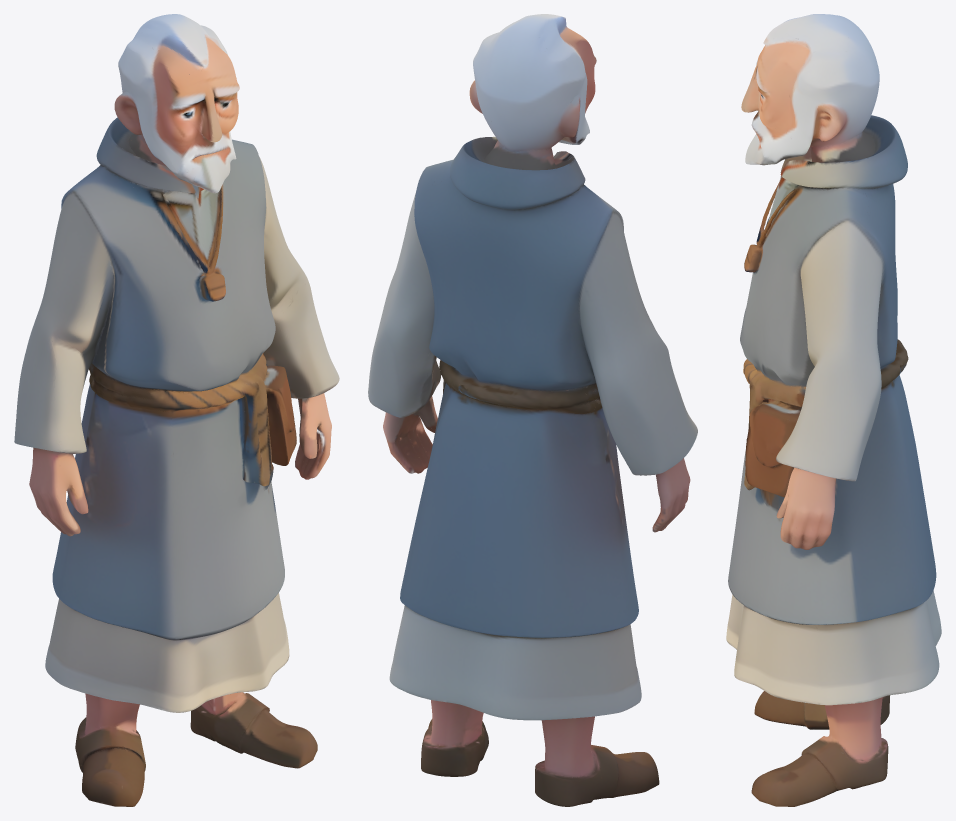
The model's file is base_basic_shaded.fbx.
3 views of the same model, side by side, from view 1: azimuth 30°, elevation 25°; view 2: azimuth 150°, elevation 25°; view 3: azimuth 270°, elevation 25° (orthographic). The views are drawn at different scales.
Parts seen in each view (by area): view 1: model; view 2: model; view 3: model.
Boxes of the visible parts, bbox=[...] form: model: bbox=[14, 14, 339, 806]; model: bbox=[368, 14, 697, 806]; model: bbox=[726, 14, 941, 806].
Size of the model in its own units: 82.47 by 190 by 50.52.
